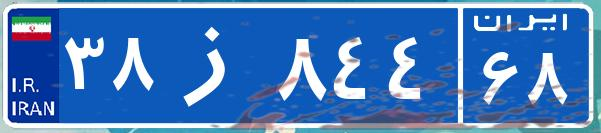3: (57, 26, 110, 107)
4: (385, 28, 445, 110), (330, 28, 385, 110)
6: (475, 38, 525, 113)
8: (273, 28, 330, 110), (110, 28, 158, 105), (525, 38, 570, 115)
ز: (158, 15, 273, 115)
